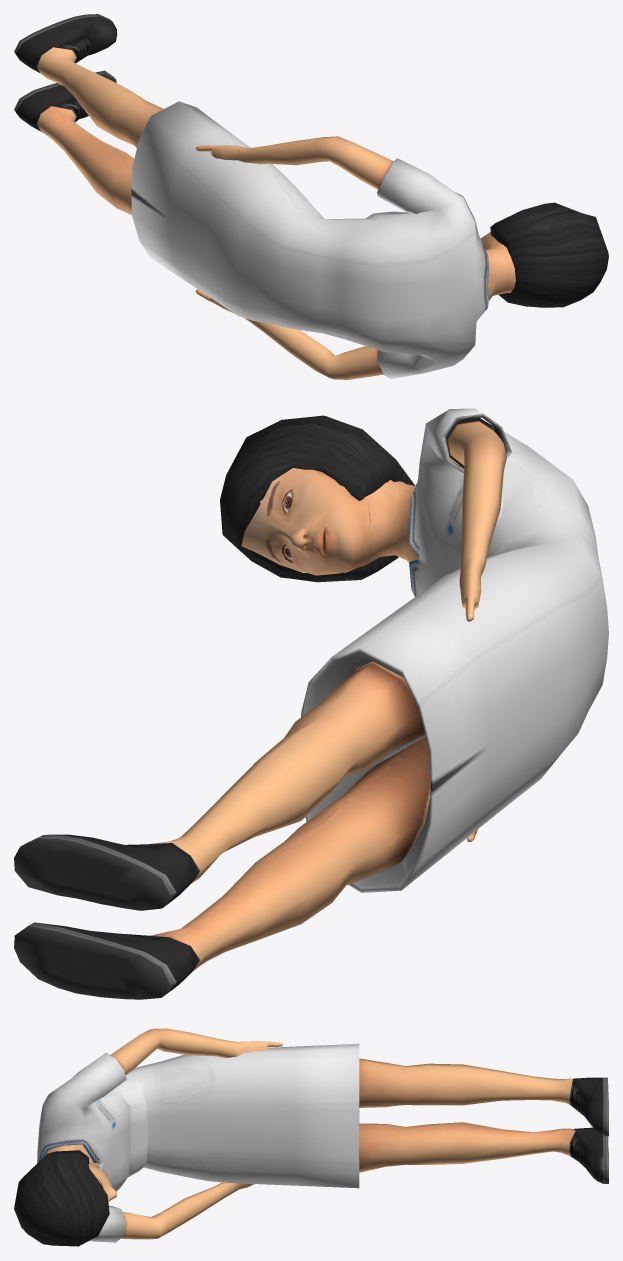
Rendered from nurse_leaning.glb.
3 views of the same model, one above another, from view 1: azimuth 30°, elevation 25°; view 2: azimuth 150°, elevation 25°; view 3: azimuth 270°, elevation 25° (orthographic). The views are drawn at different scales.
Parts seen in each view (by area): view 1: world; view 2: world; view 3: world.
Boxes of the visible parts, x1,y1,x2,y2 form: world: (14, 14, 608, 379); world: (14, 408, 608, 999); world: (14, 1028, 608, 1246).
Size of the model in its own units: 0.6516 by 0.496 by 1.29.
Materials: 1 (1 with a texture image).
